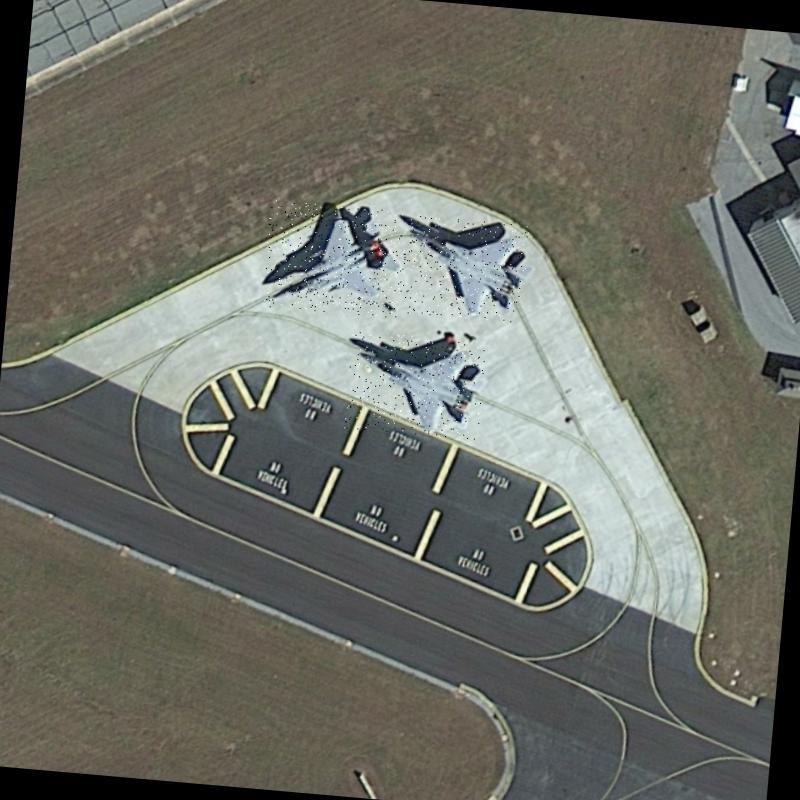A13: (262, 200, 408, 319), (344, 331, 486, 440), (392, 214, 530, 324)
